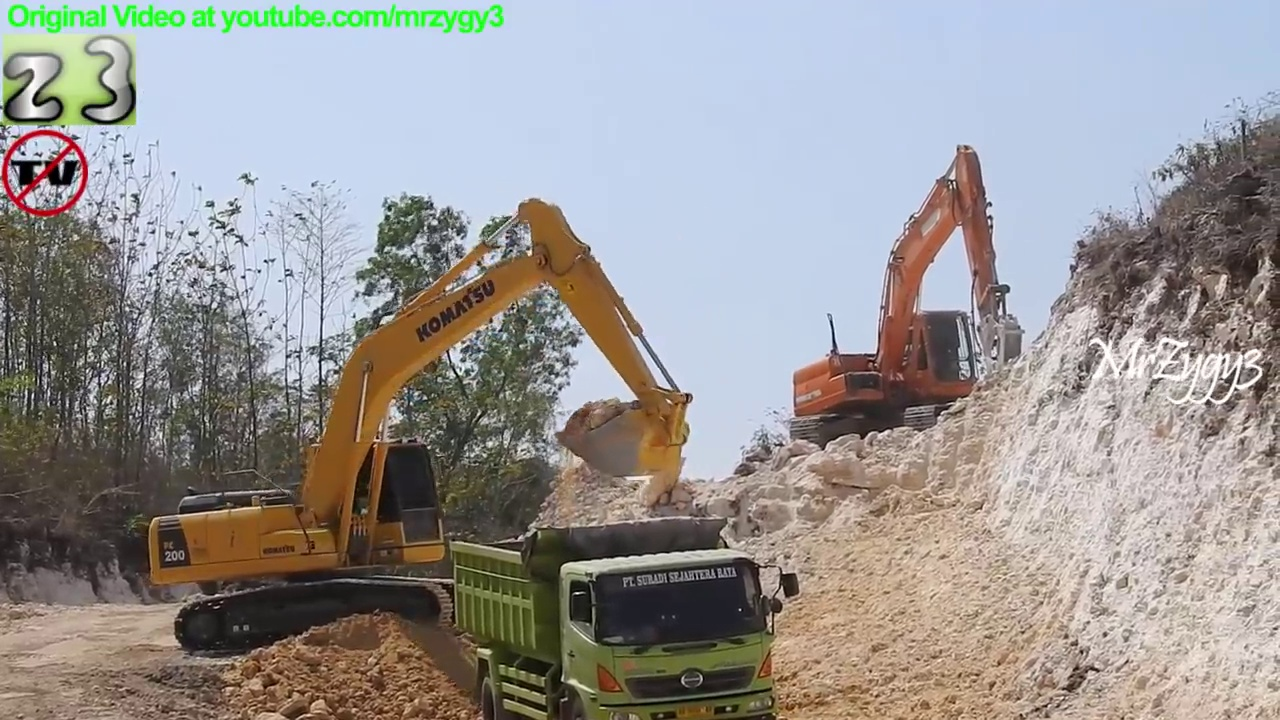excavator: (147, 193, 696, 661), (786, 140, 1031, 450)
truck: (440, 513, 808, 720)
